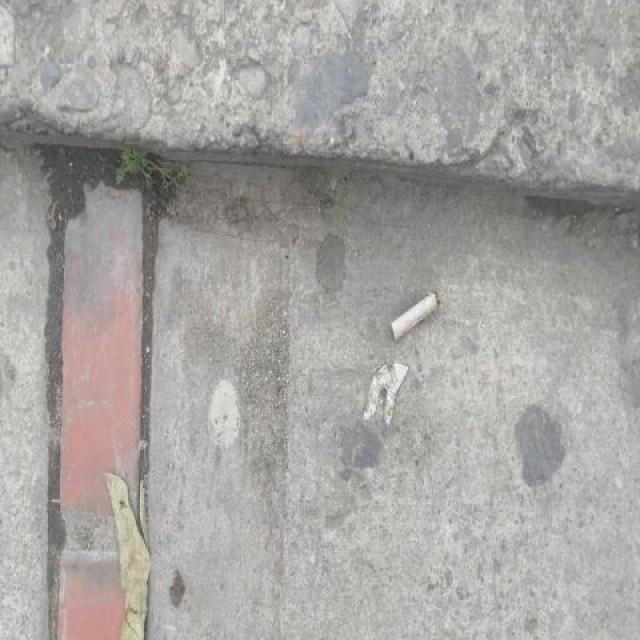non-organic waste: (386, 282, 445, 346)
